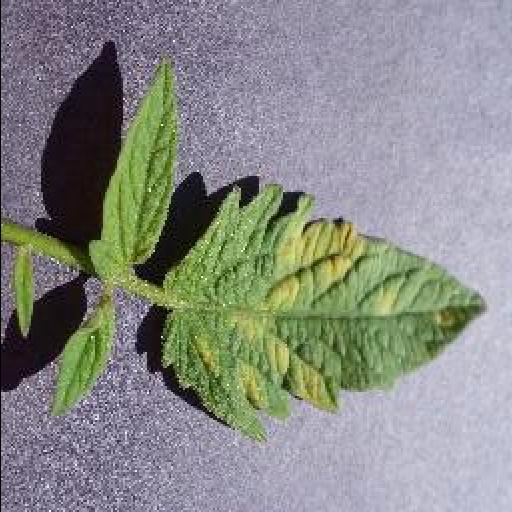disease_tomato: (158, 180, 492, 446)
